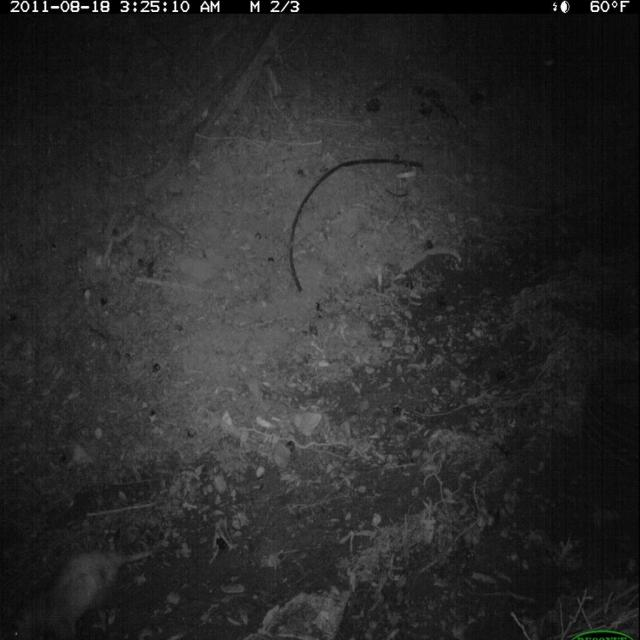opossum: (4, 538, 150, 638)
